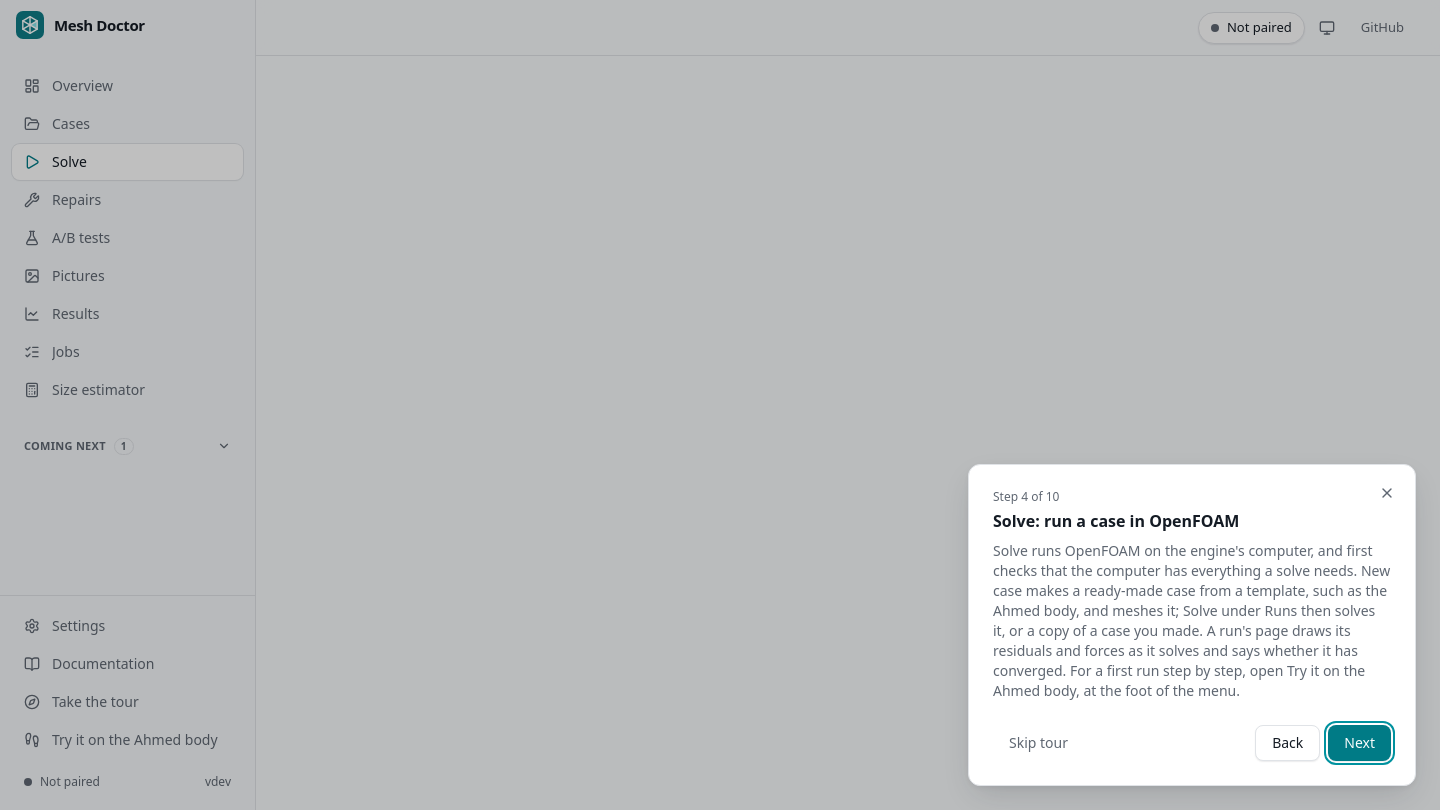
Test: your own app's tour › stays on Jobs at its report step before a repair has finished, and says where reports open
Earlier steps of the test are not shown.
Click the button "Next".
click(1360, 743)  # box 1328,725 -> 1391,761
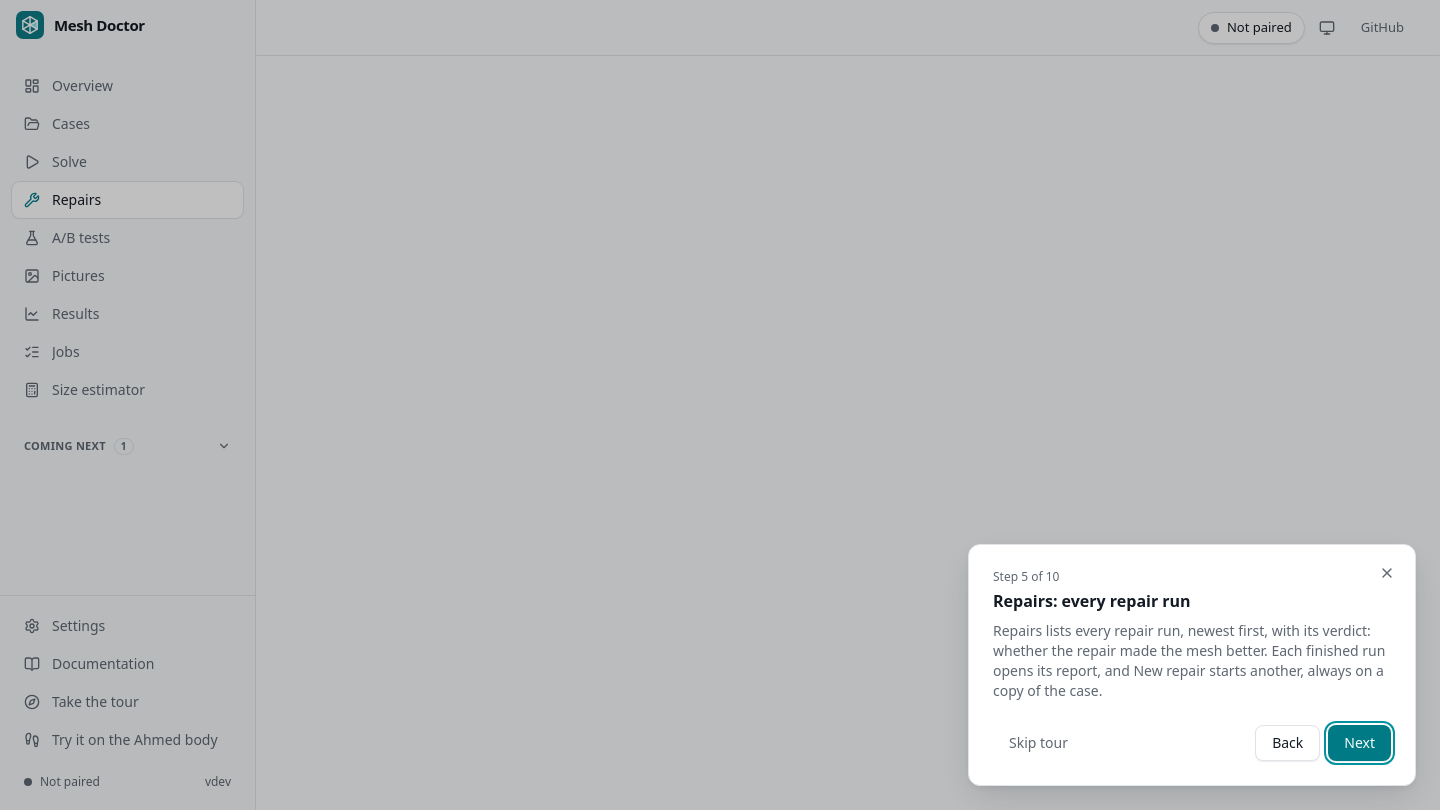
Click the button "Next".
click(1360, 743)  # box 1328,725 -> 1391,761
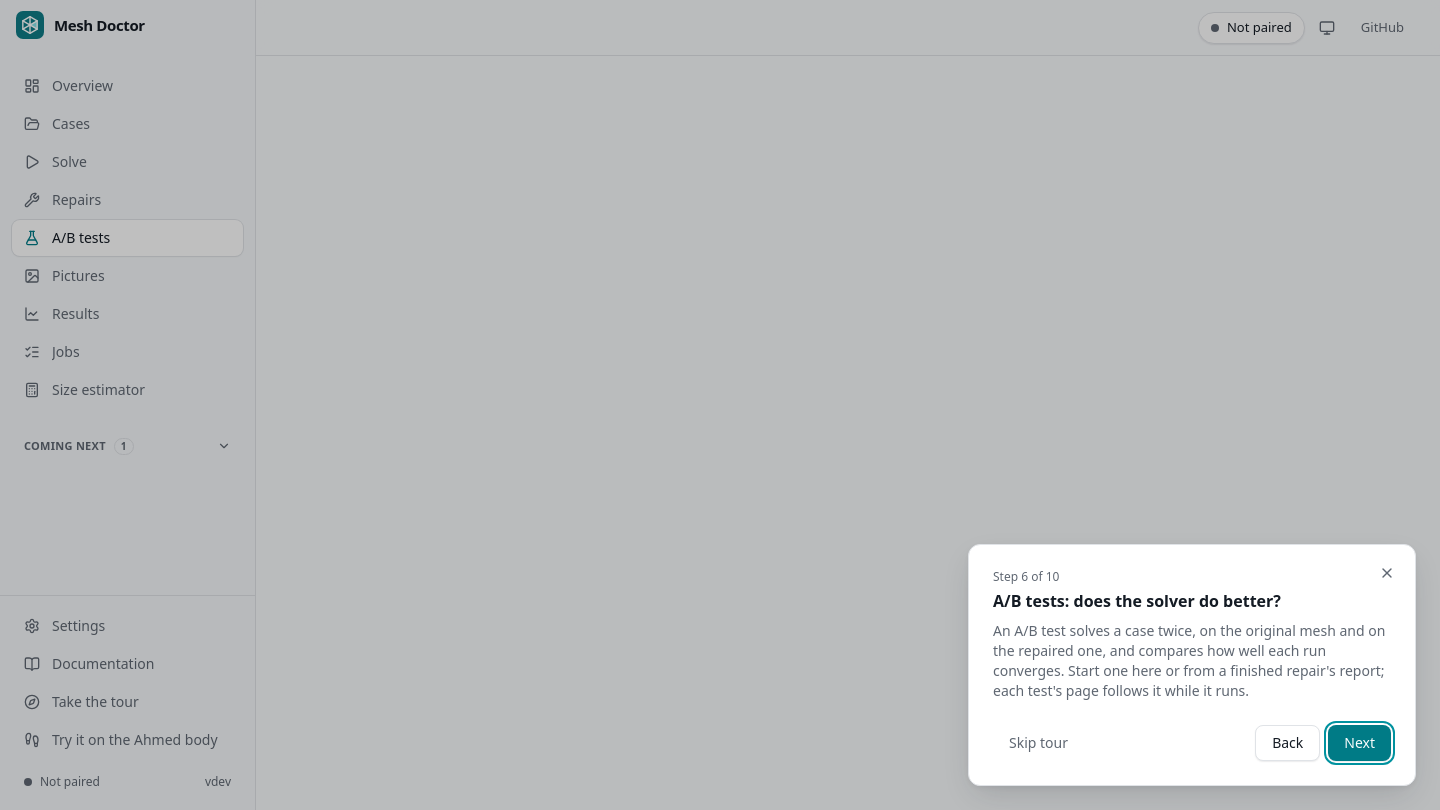
Click the button "Next".
click(1360, 743)  # box 1328,725 -> 1391,761
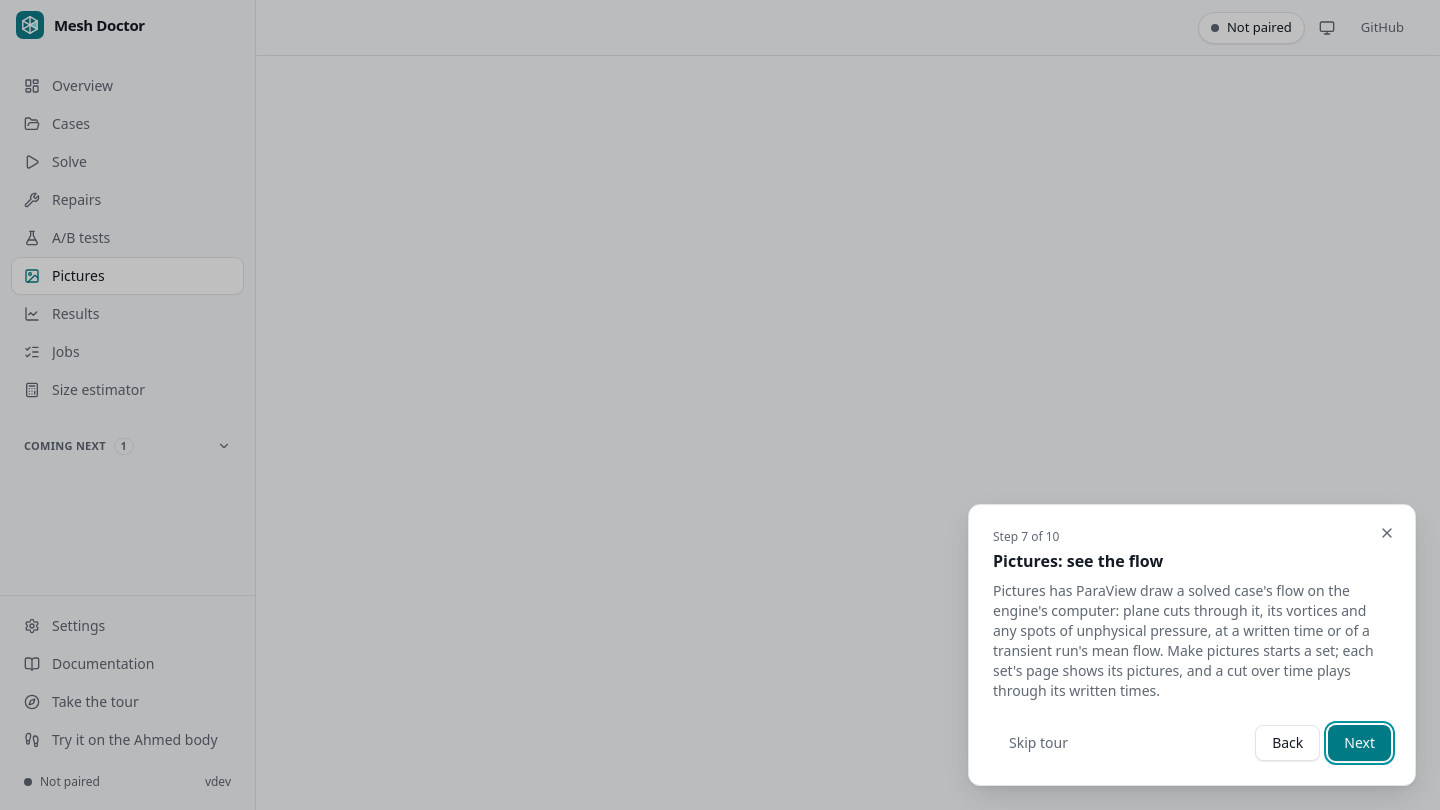
Click the button "Next".
click(1360, 743)  # box 1328,725 -> 1391,761
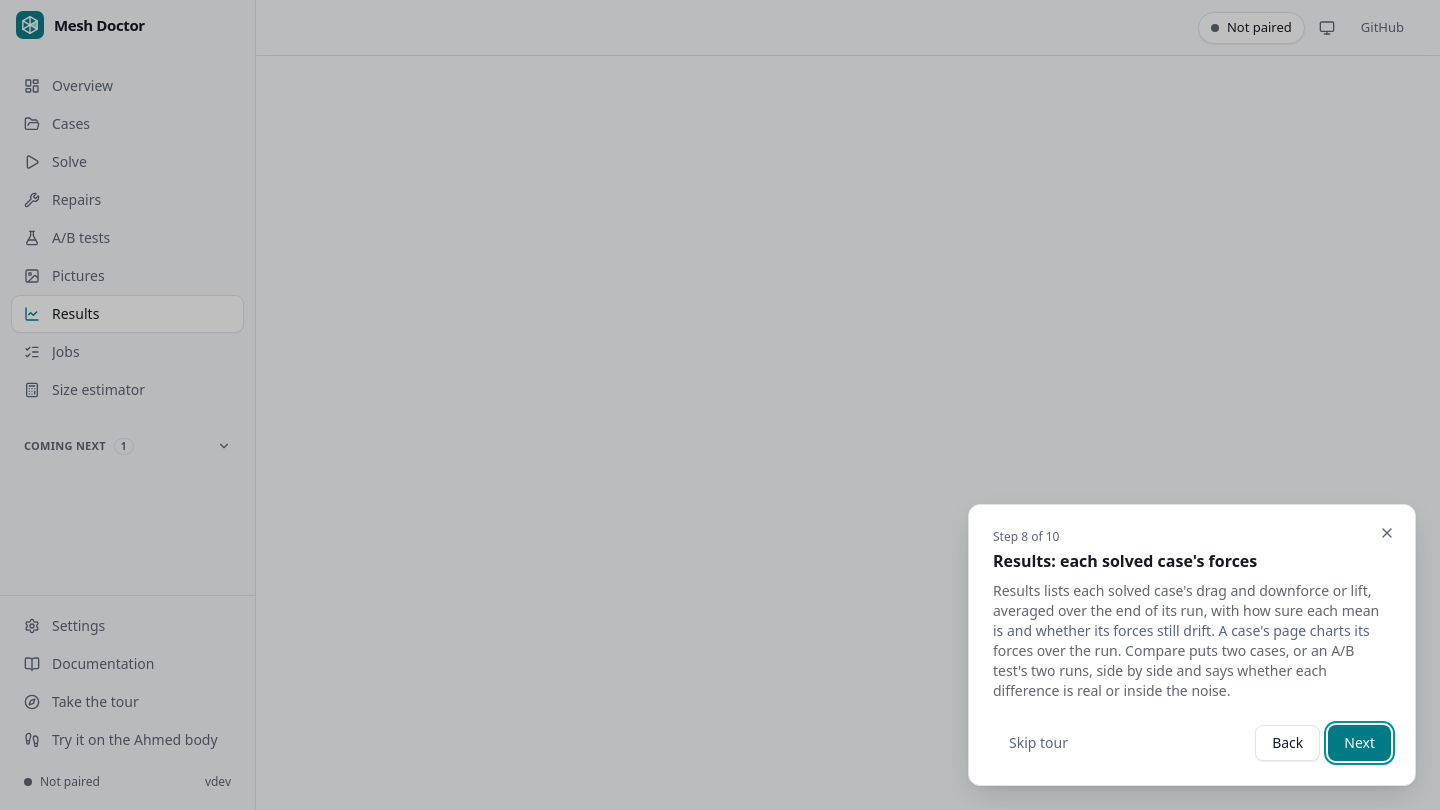
Click the button "Next".
click(1360, 743)  # box 1328,725 -> 1391,761
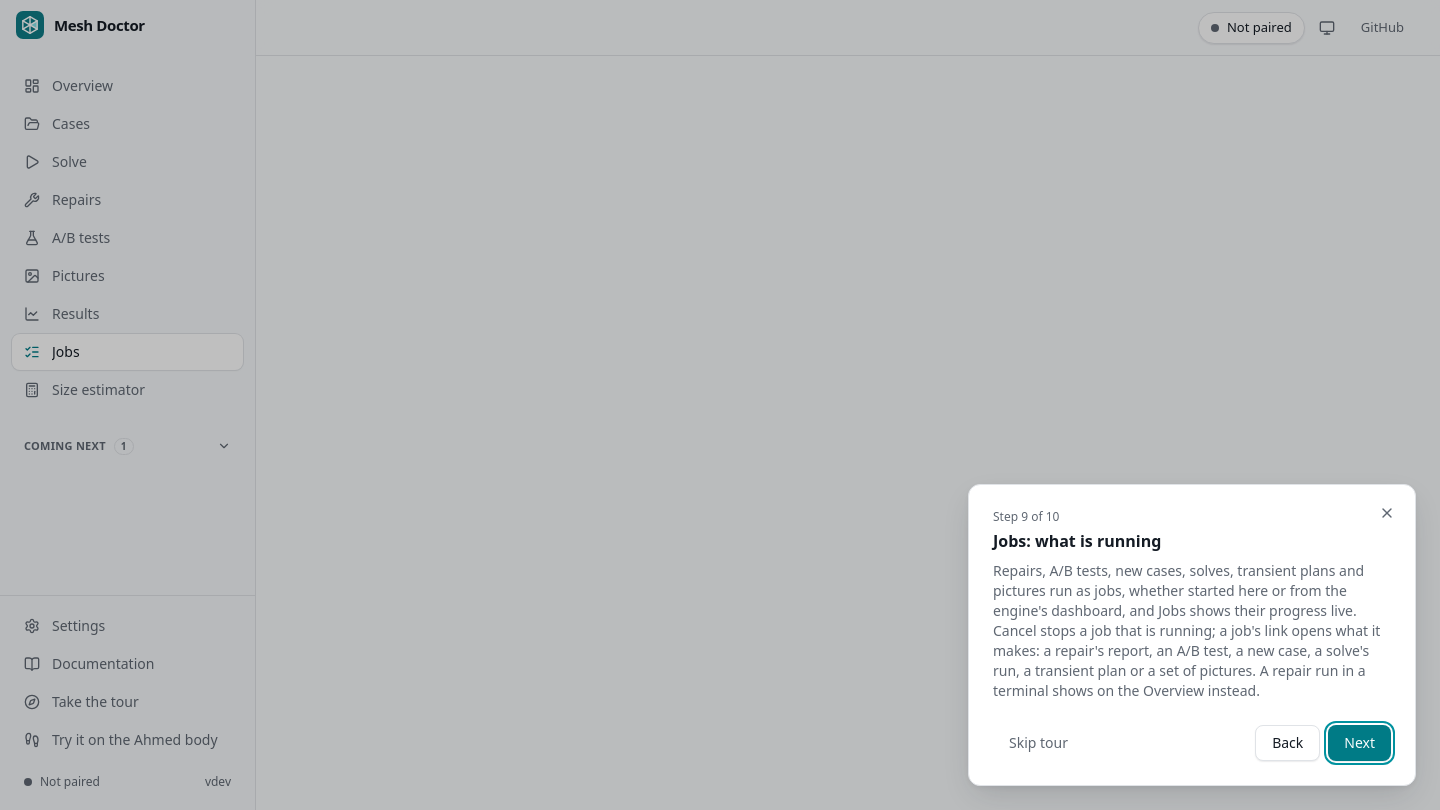
Click the button "Next".
click(1360, 743)  # box 1328,725 -> 1391,761
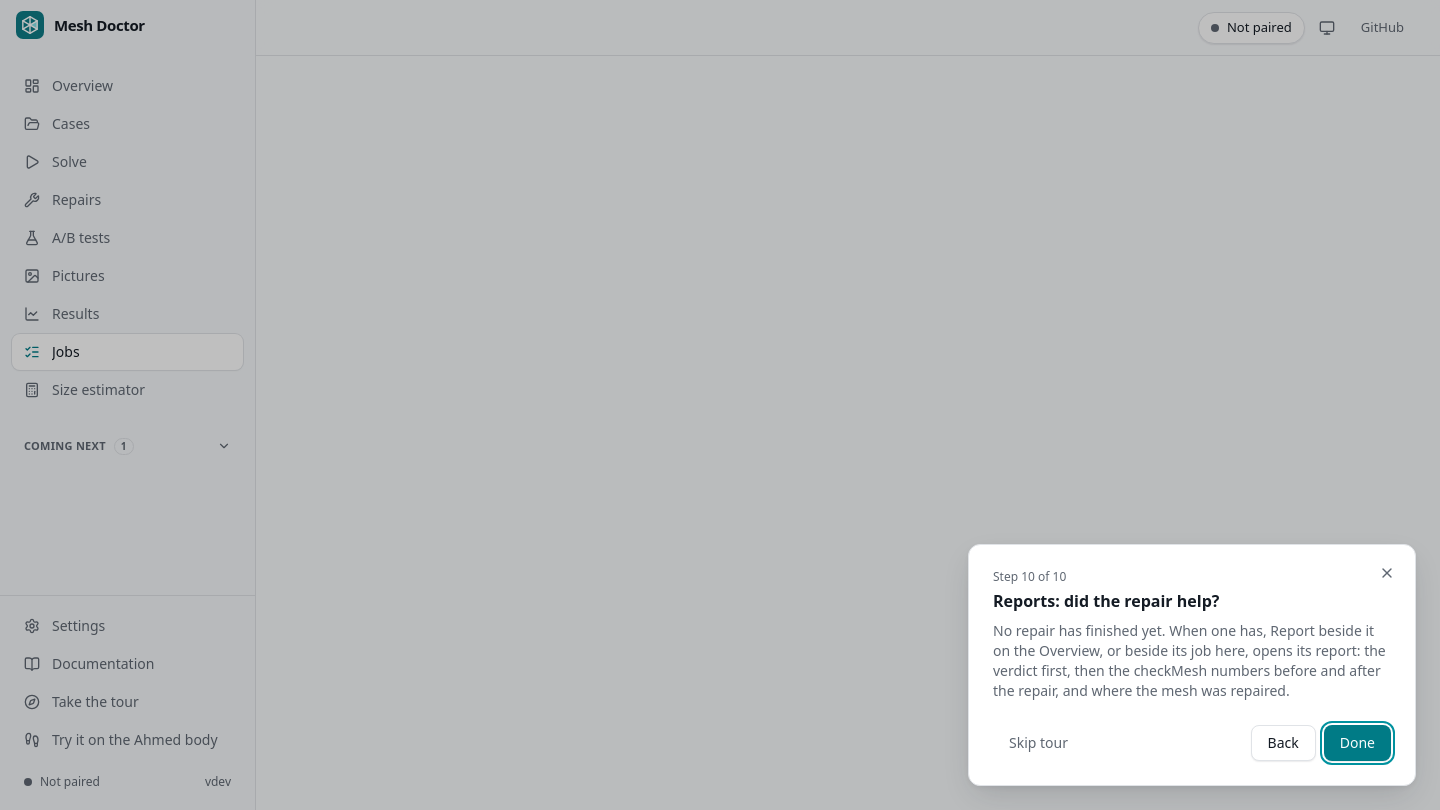
Check: the dialog "Reports: did the repair help?" shows "No repair has finished yet. When one has, Report beside it on the Overview, or beside its job here, opens its report", box 993,621 -> 1386,700
